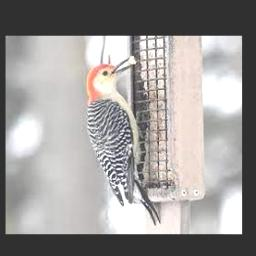Woodpecker: (87, 57, 161, 225)
